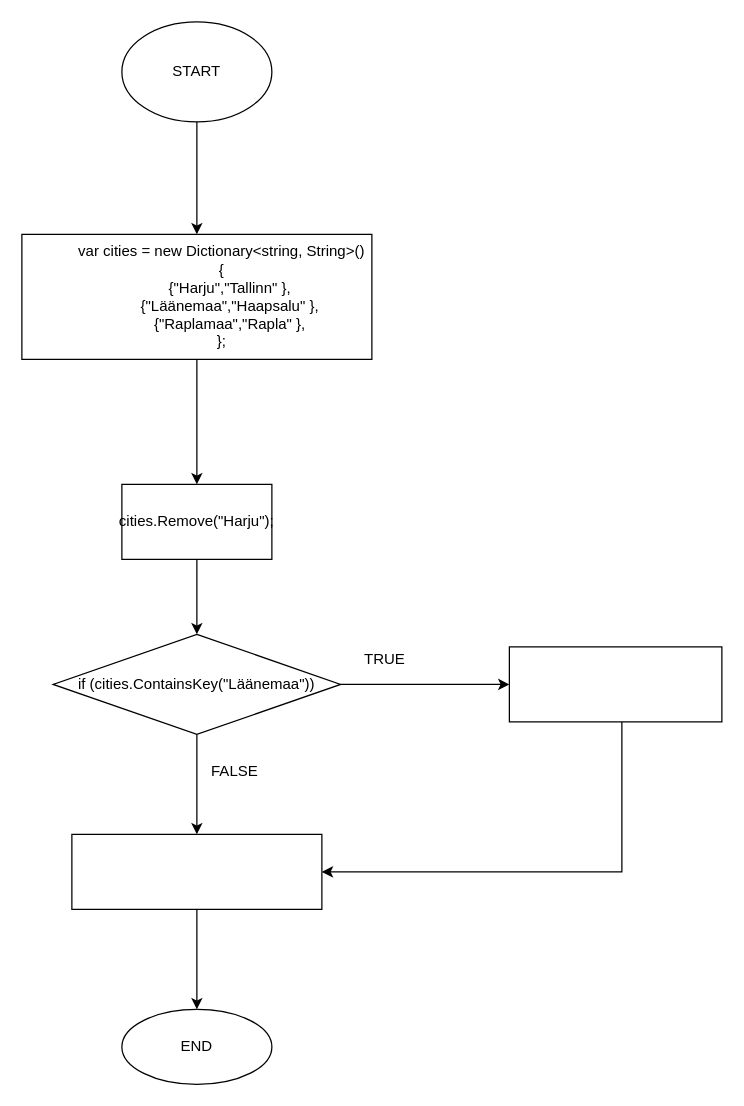
Image size: 744x1106. Some labels were removed from this diagram. Here are the shapes that lost their labels. From the top down, the box of each, then its label:
(508, 646, 722, 722): cities.Remove("Läänemaa");
(71, 833, 322, 909): Console.WriteLine(cities.Count);
